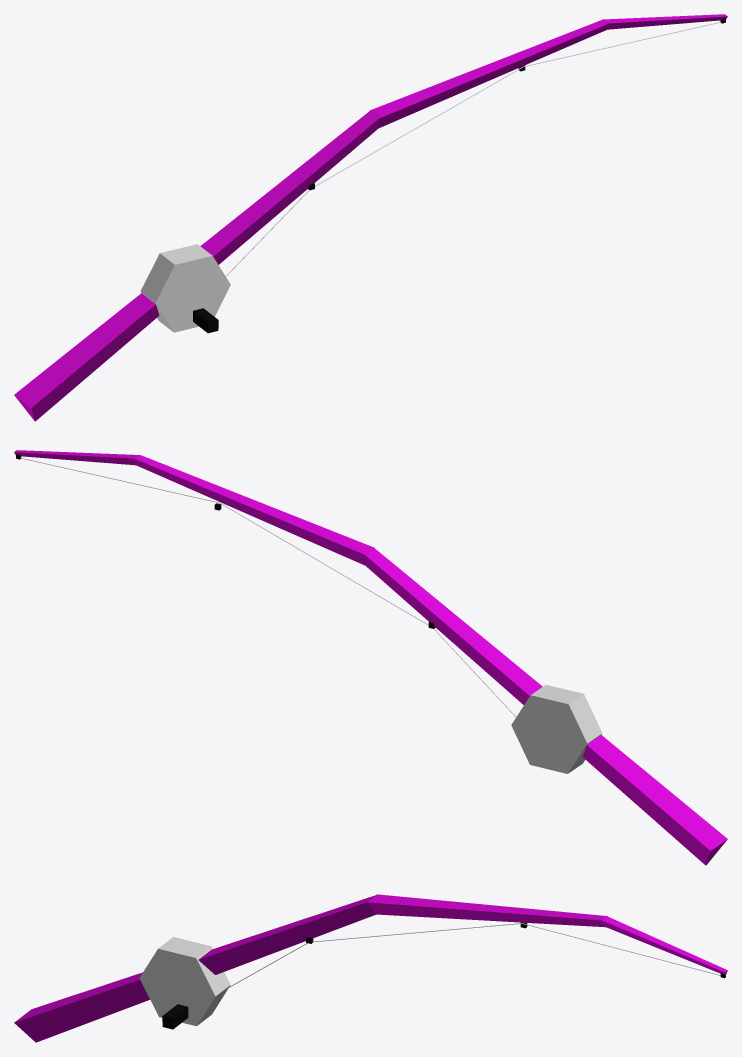
Rendered from fishing_rod.glb.
3 renders of one model, top to bottom at view 1: azimuth 30°, elevation 25°; view 2: azimuth 150°, elevation 25°; view 3: azimuth 330°, elevation 25°, orthographic.
Parts seen in each view (by area): view 1: Object.1; view 2: Object.1; view 3: Object.1.
Boxes of the visible parts, x1,y1,x2,y2 form: Object.1: (14,14,727,421); Object.1: (14,450,727,865); Object.1: (14,894,727,1042).
Size of the model in its own units: 1.48 by 0.5345 by 0.1175.
